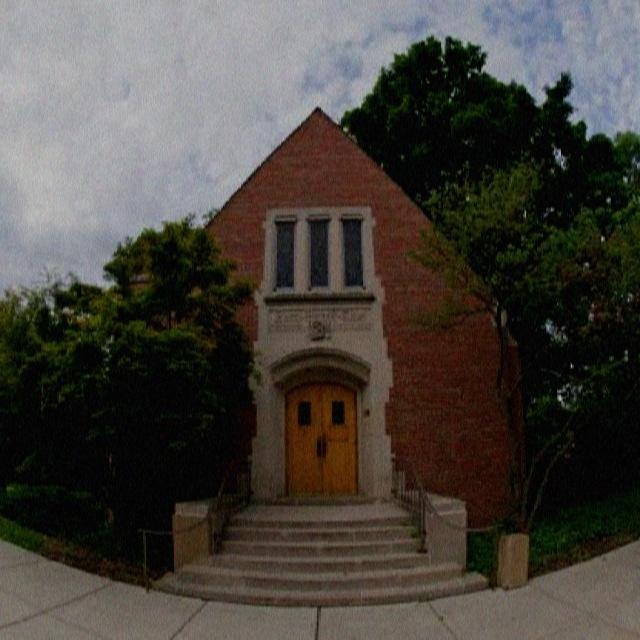stair: (151, 500, 486, 612)
